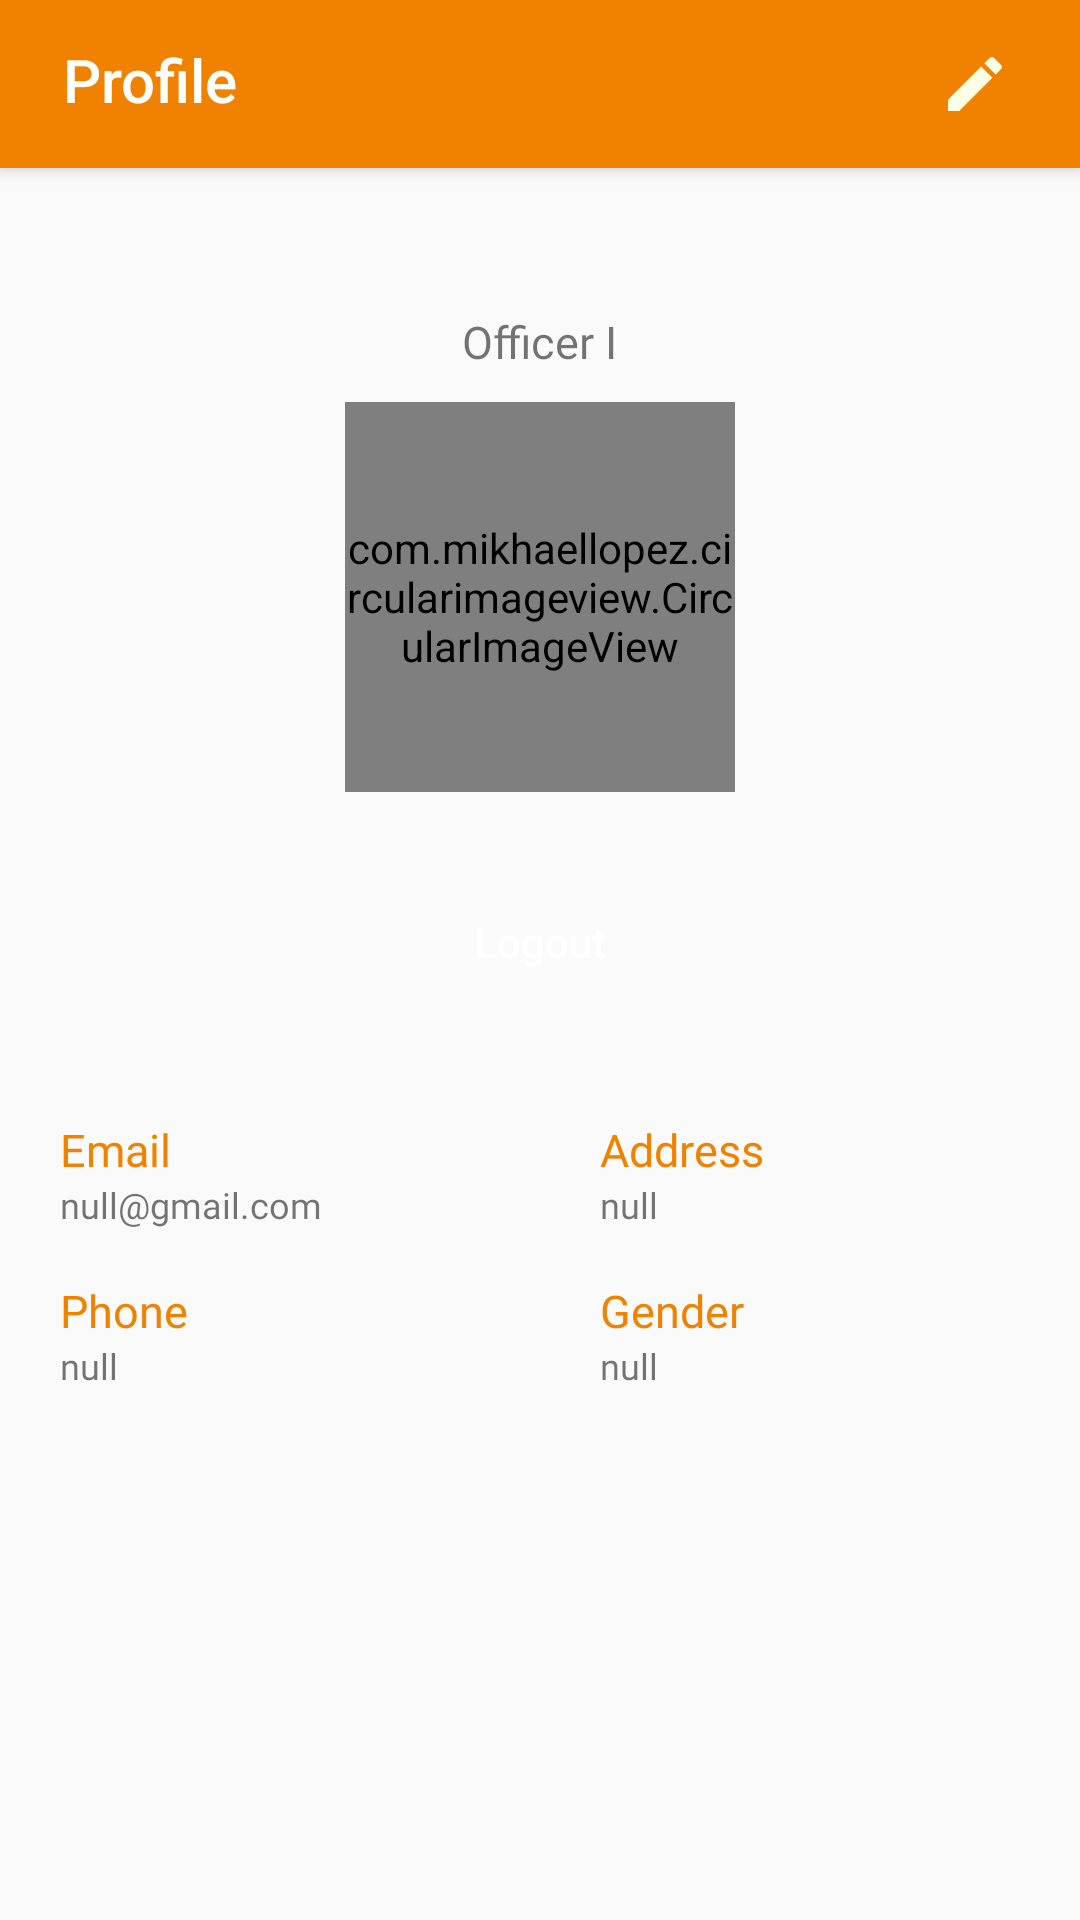

Named icons in this screenshot (1080px x 1920px) and their centers, [x,y]:
edit: [975,84]
